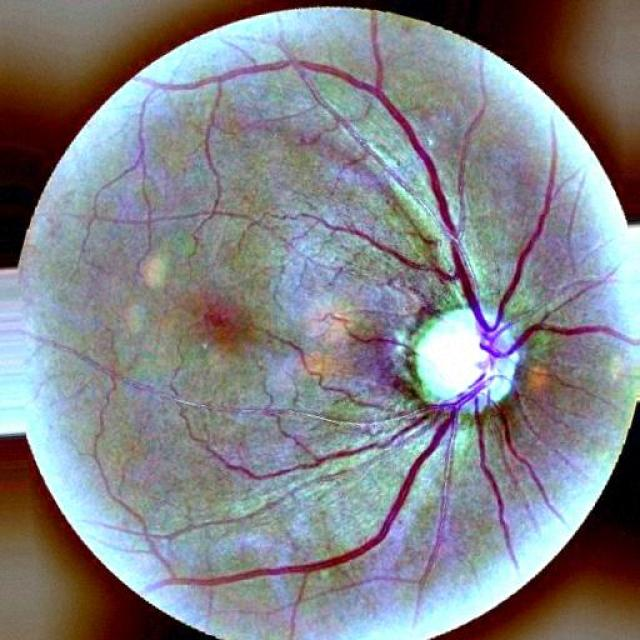Macula: (201, 302, 242, 348)
Nerves: (146, 20, 639, 586)
Optic Disk: (400, 306, 519, 410)
